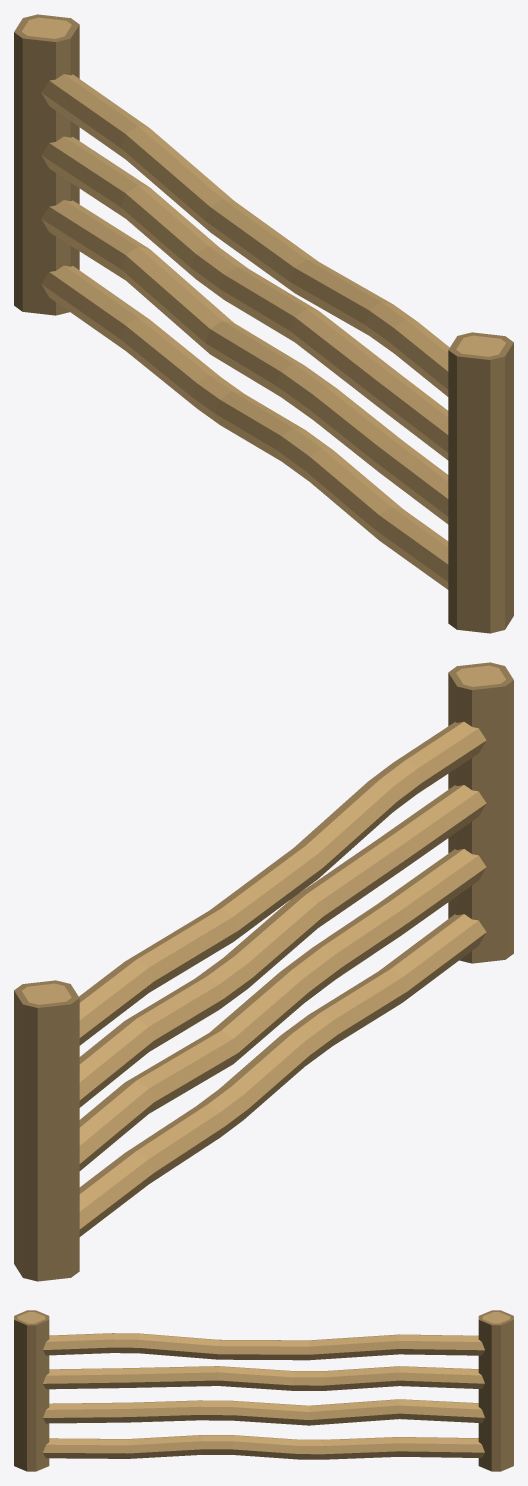
Rendered from fence_long.fbx.
3 views of the same model, one above another, from view 1: azimuth 30°, elevation 25°; view 2: azimuth 150°, elevation 25°; view 3: azimuth 270°, elevation 25° (orthographic). The views are drawn at different scales.
Parts seen in each view (by area): view 1: Cylinder.002; view 2: Cylinder.002; view 3: Cylinder.002.
Part boxes in pixels (x1=…): Cylinder.002: x1=14, y1=14, x2=513, y2=633; Cylinder.002: x1=14, y1=662, x2=513, y2=1281; Cylinder.002: x1=14, y1=1310, x2=513, y2=1471.
Size of the model in its own units: 81.06 by 371 by 1149.
